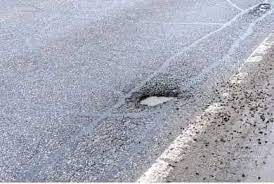Pothole: (120, 82, 193, 116)
